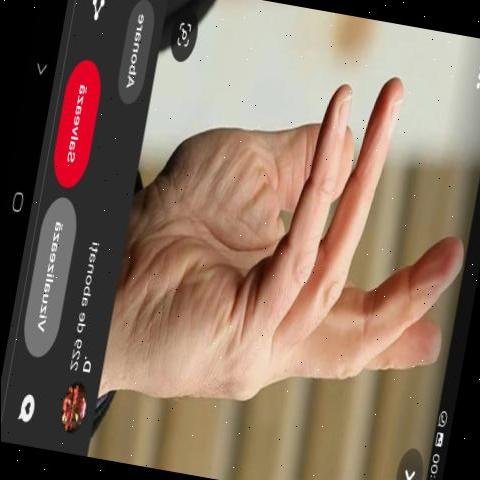Hands: (104, 40, 476, 430)
